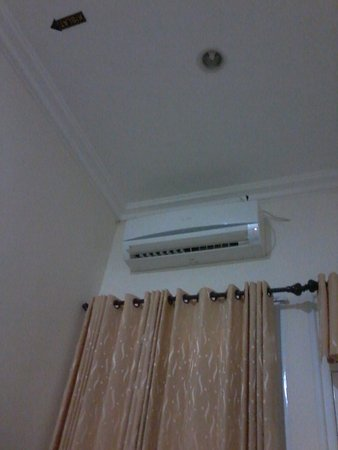AC: (122, 218, 275, 269)
